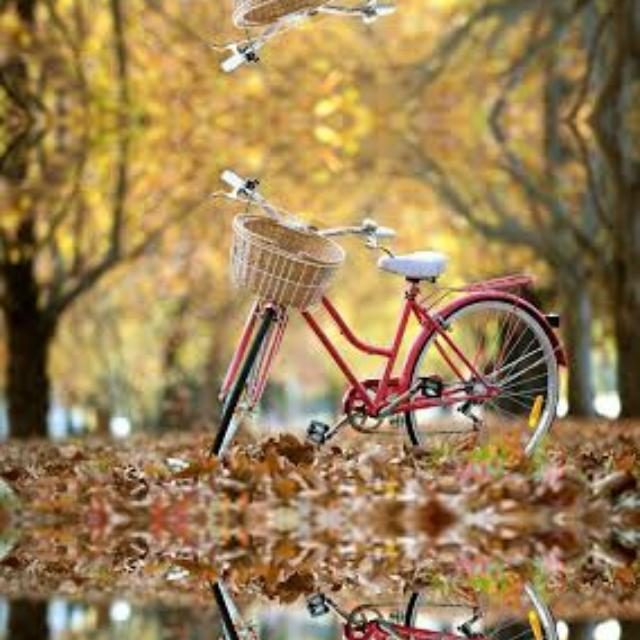obstacle: (179, 158, 593, 484), (179, 554, 593, 640), (179, 0, 593, 82)
